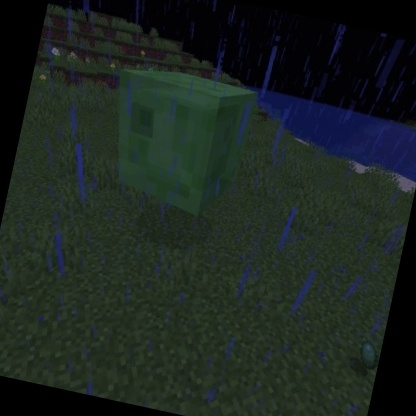slime: (88, 53, 264, 229)
